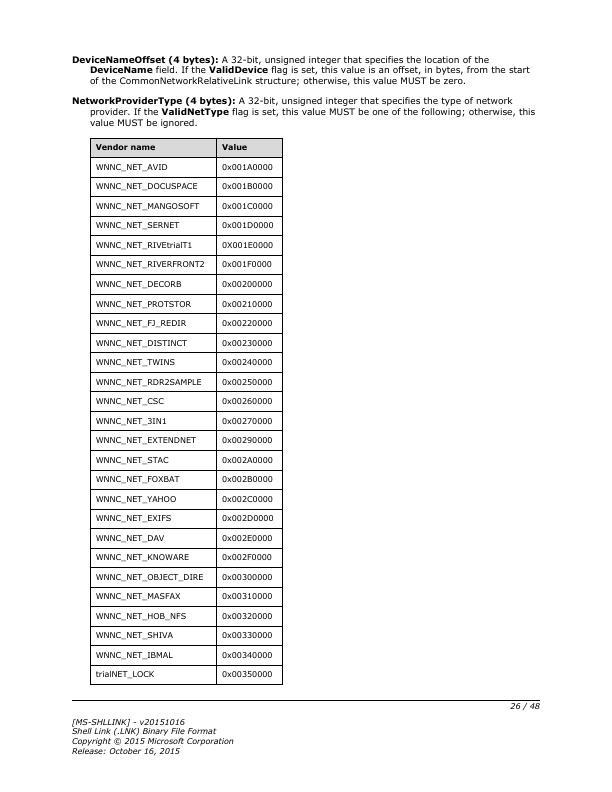table: (88, 136, 286, 689)
text: (68, 93, 537, 129), (68, 52, 533, 87), (68, 715, 235, 755)
